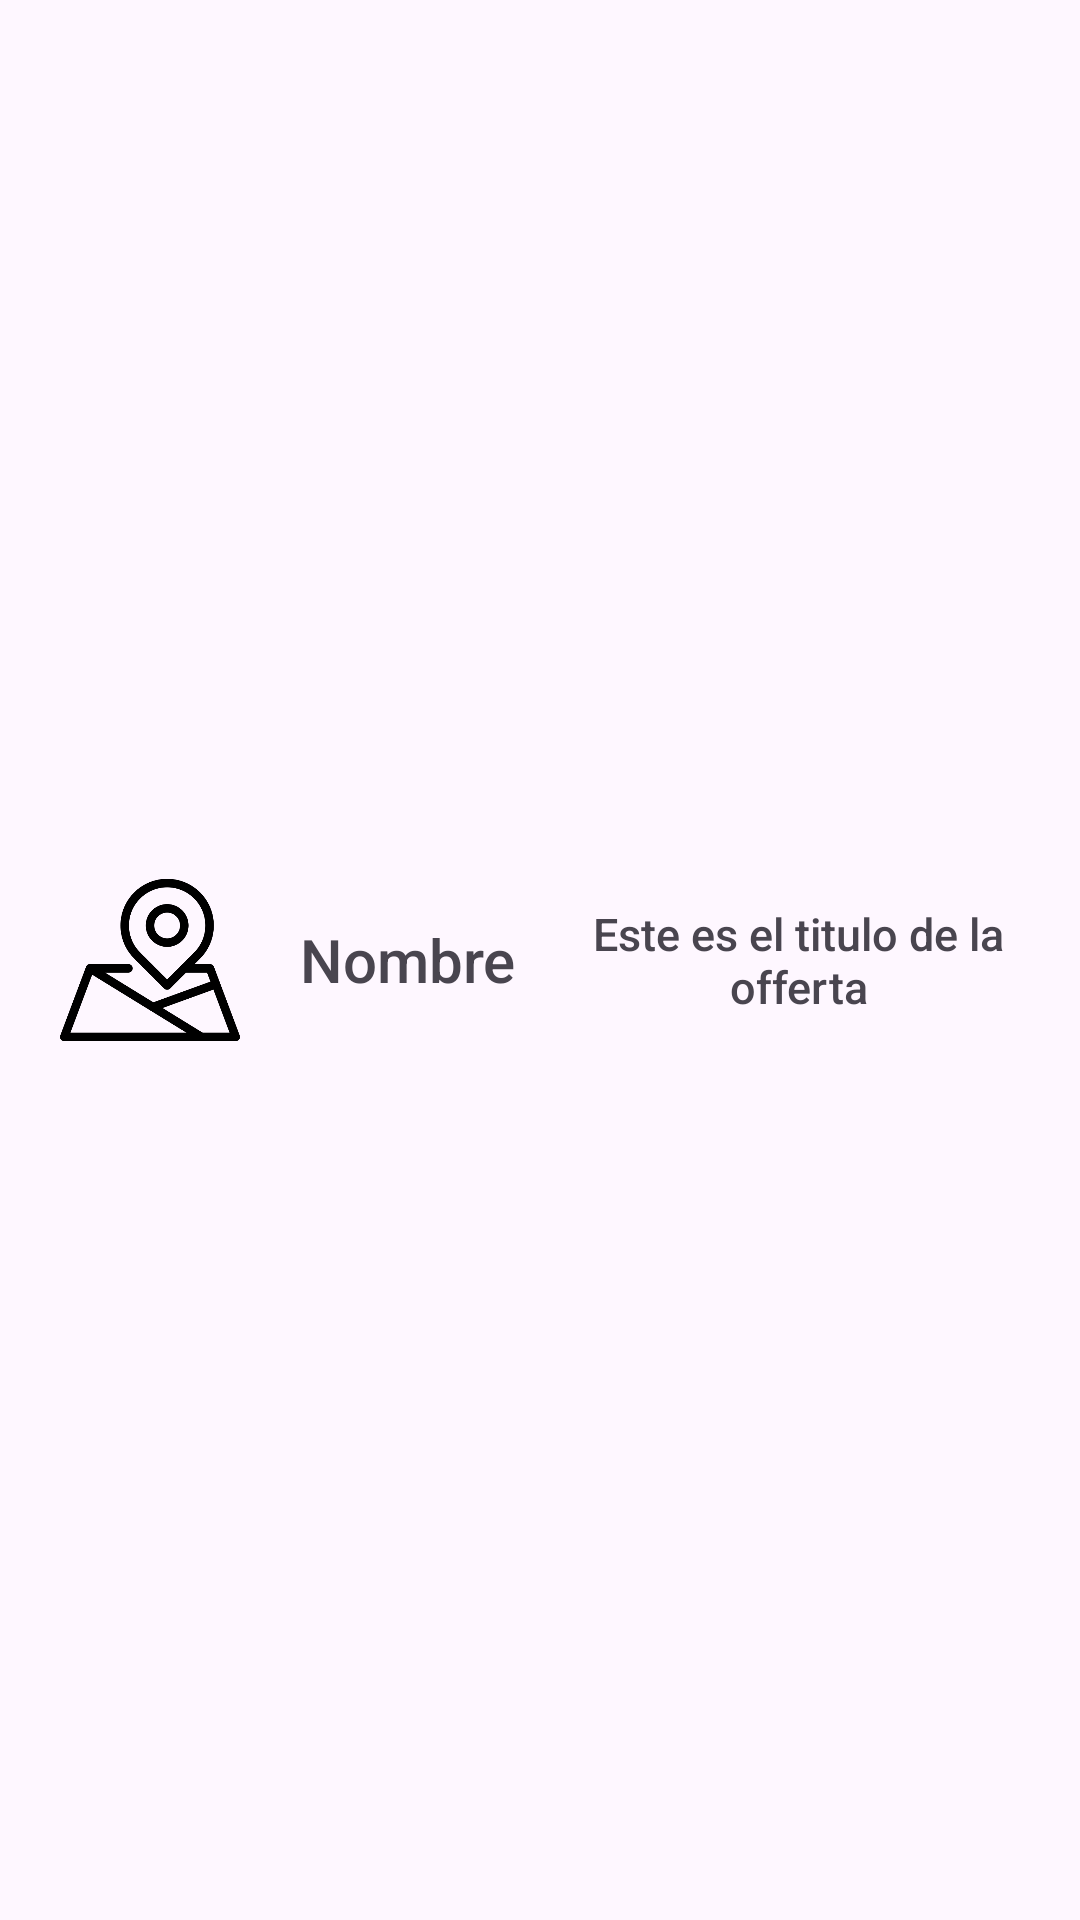

Icons on this 1080 x 1920 Android screen, each with its box as (x1, y1, x2, y2):
map: (60, 879, 240, 1041)
